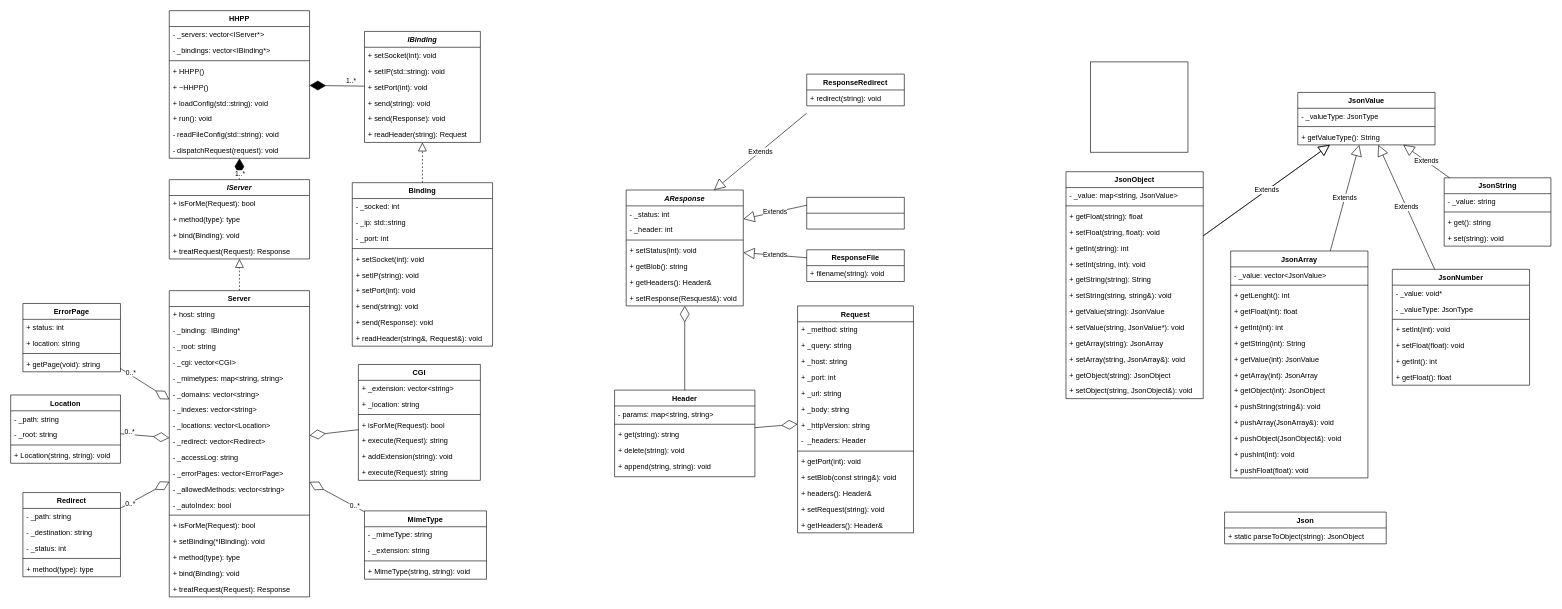
Some shapes in this 1562 by 609 pixel diagram are drawn without their labels. Each missing label, with the centre of its shape:
enum JsonType null string number object array true false: the point at 1139,106
Response: the point at 855,213
